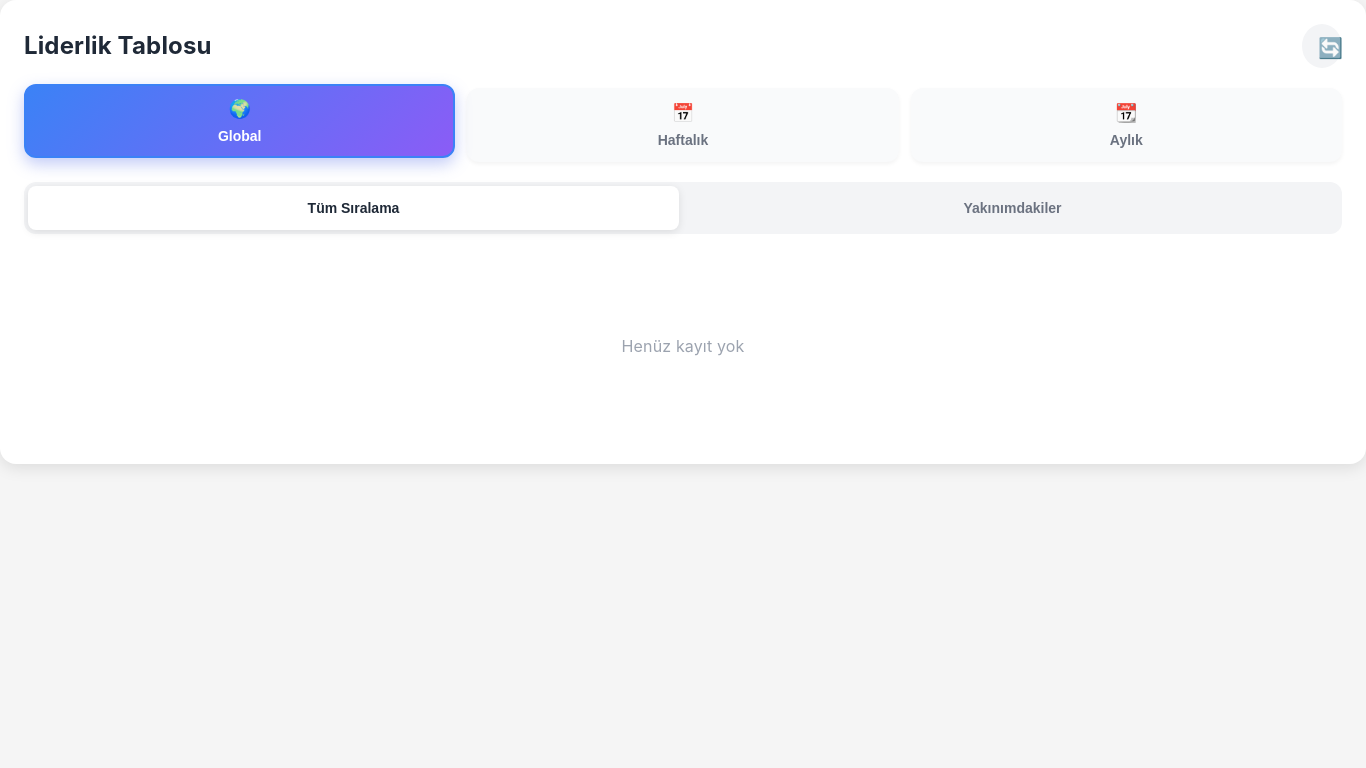
Leaderboard - Empty States › shows no nearby users message
Click the button "Yakınımdakiler": (1012, 208) [687,186,1338,230]
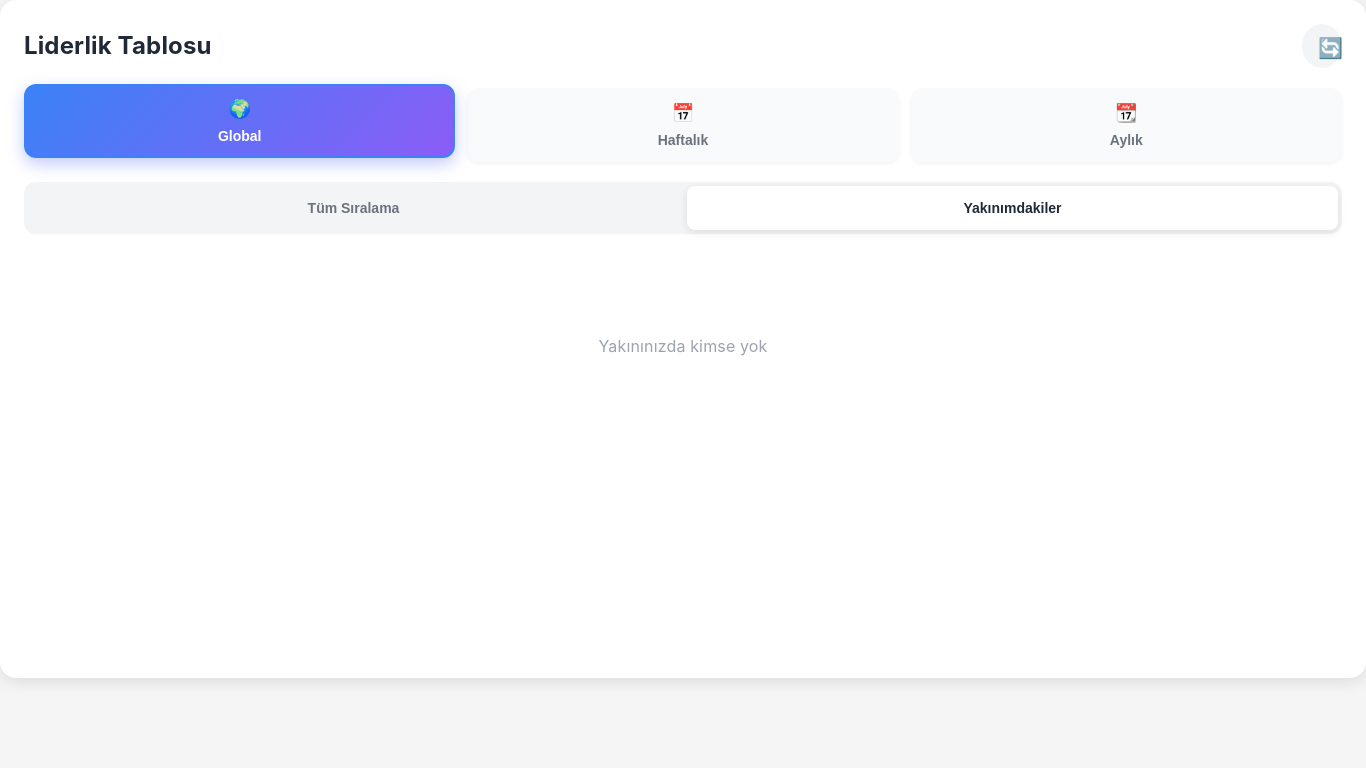
Expected: the text "Yakınınızda kimse yok" is shown, [598,336,768,356]
